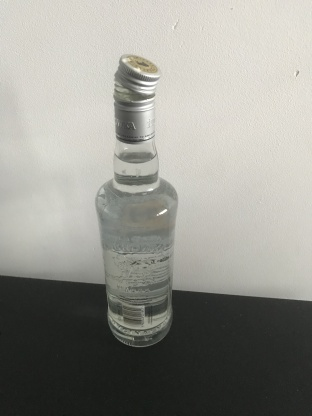nakretka: (112, 51, 162, 145)
